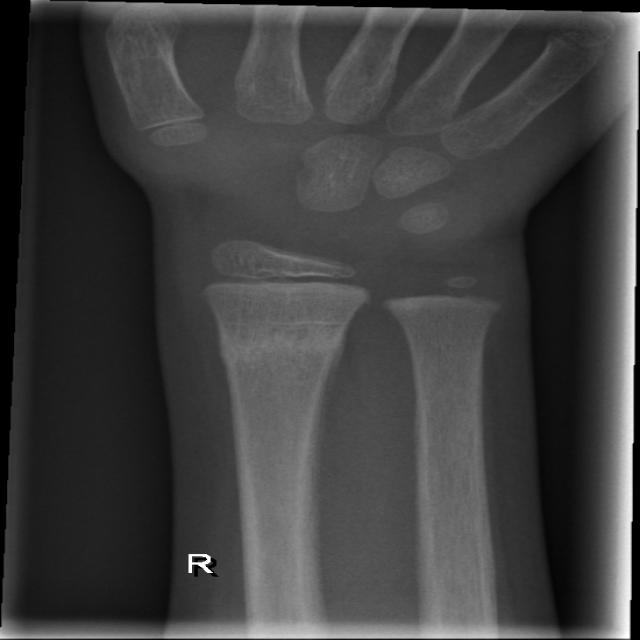radius fracture: (178, 312, 382, 396)
